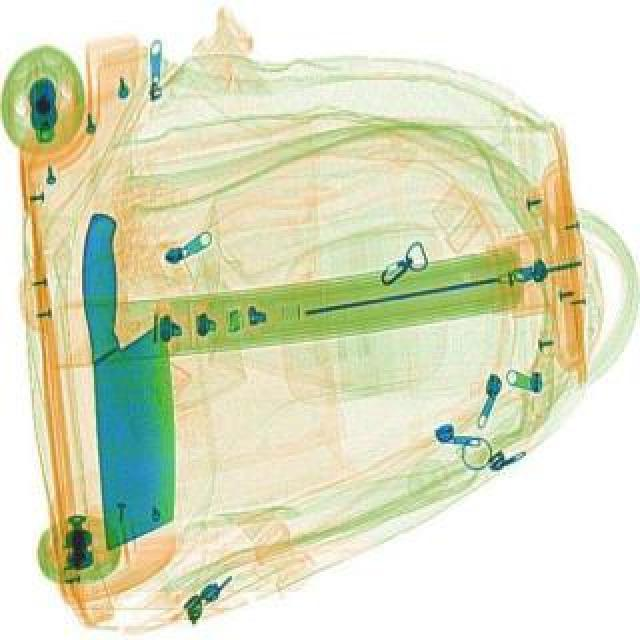knife: (70, 206, 184, 546)
